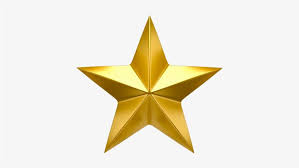star: (75, 13, 224, 154)
